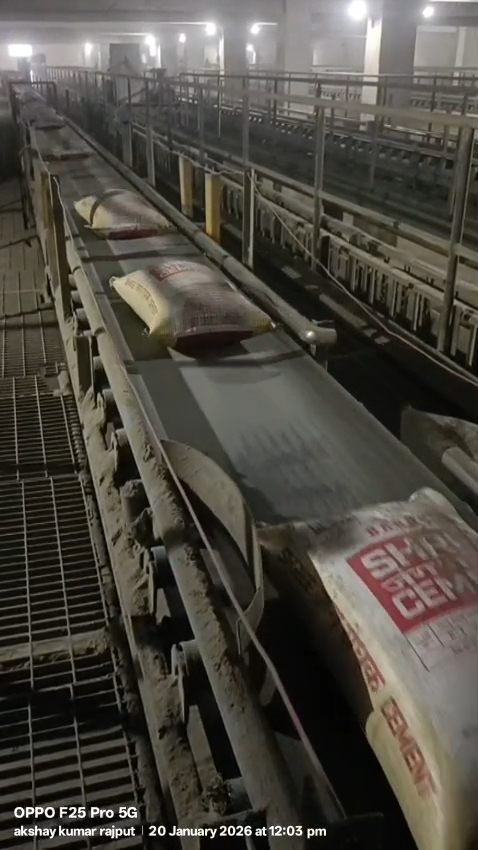Bag: (263, 498, 478, 850), (121, 242, 257, 353), (64, 184, 182, 242)
Printed: (338, 626, 459, 800), (300, 531, 478, 626), (151, 257, 212, 284)
